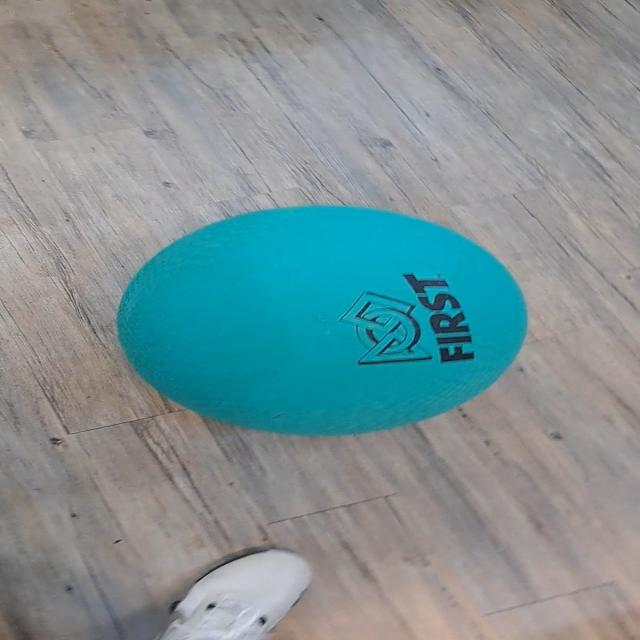ALGAE: (114, 203, 530, 437)
